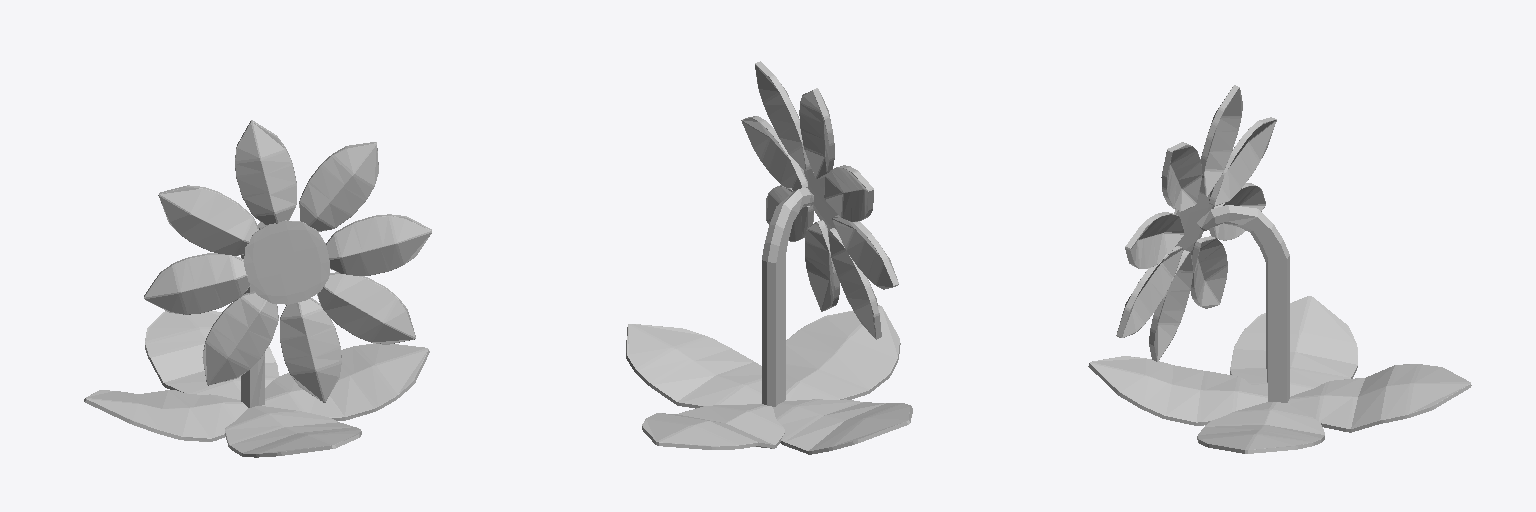
Rendered from Solros.obj.
The picture shows the model from 3 angles: view 1: azimuth 30°, elevation 25°; view 2: azimuth 150°, elevation 25°; view 3: azimuth 270°, elevation 25°; orthographic projection.
Parts seen in each view (by area): view 1: Cube.030; view 2: Cube.030; view 3: Cube.030.
Part boxes in pixels (bbox=[...]): Cube.030: bbox=[84, 120, 431, 457]; Cube.030: bbox=[626, 61, 912, 454]; Cube.030: bbox=[1088, 85, 1471, 453].
Size of the model in its own units: 0.8141 by 0.7831 by 0.8625.